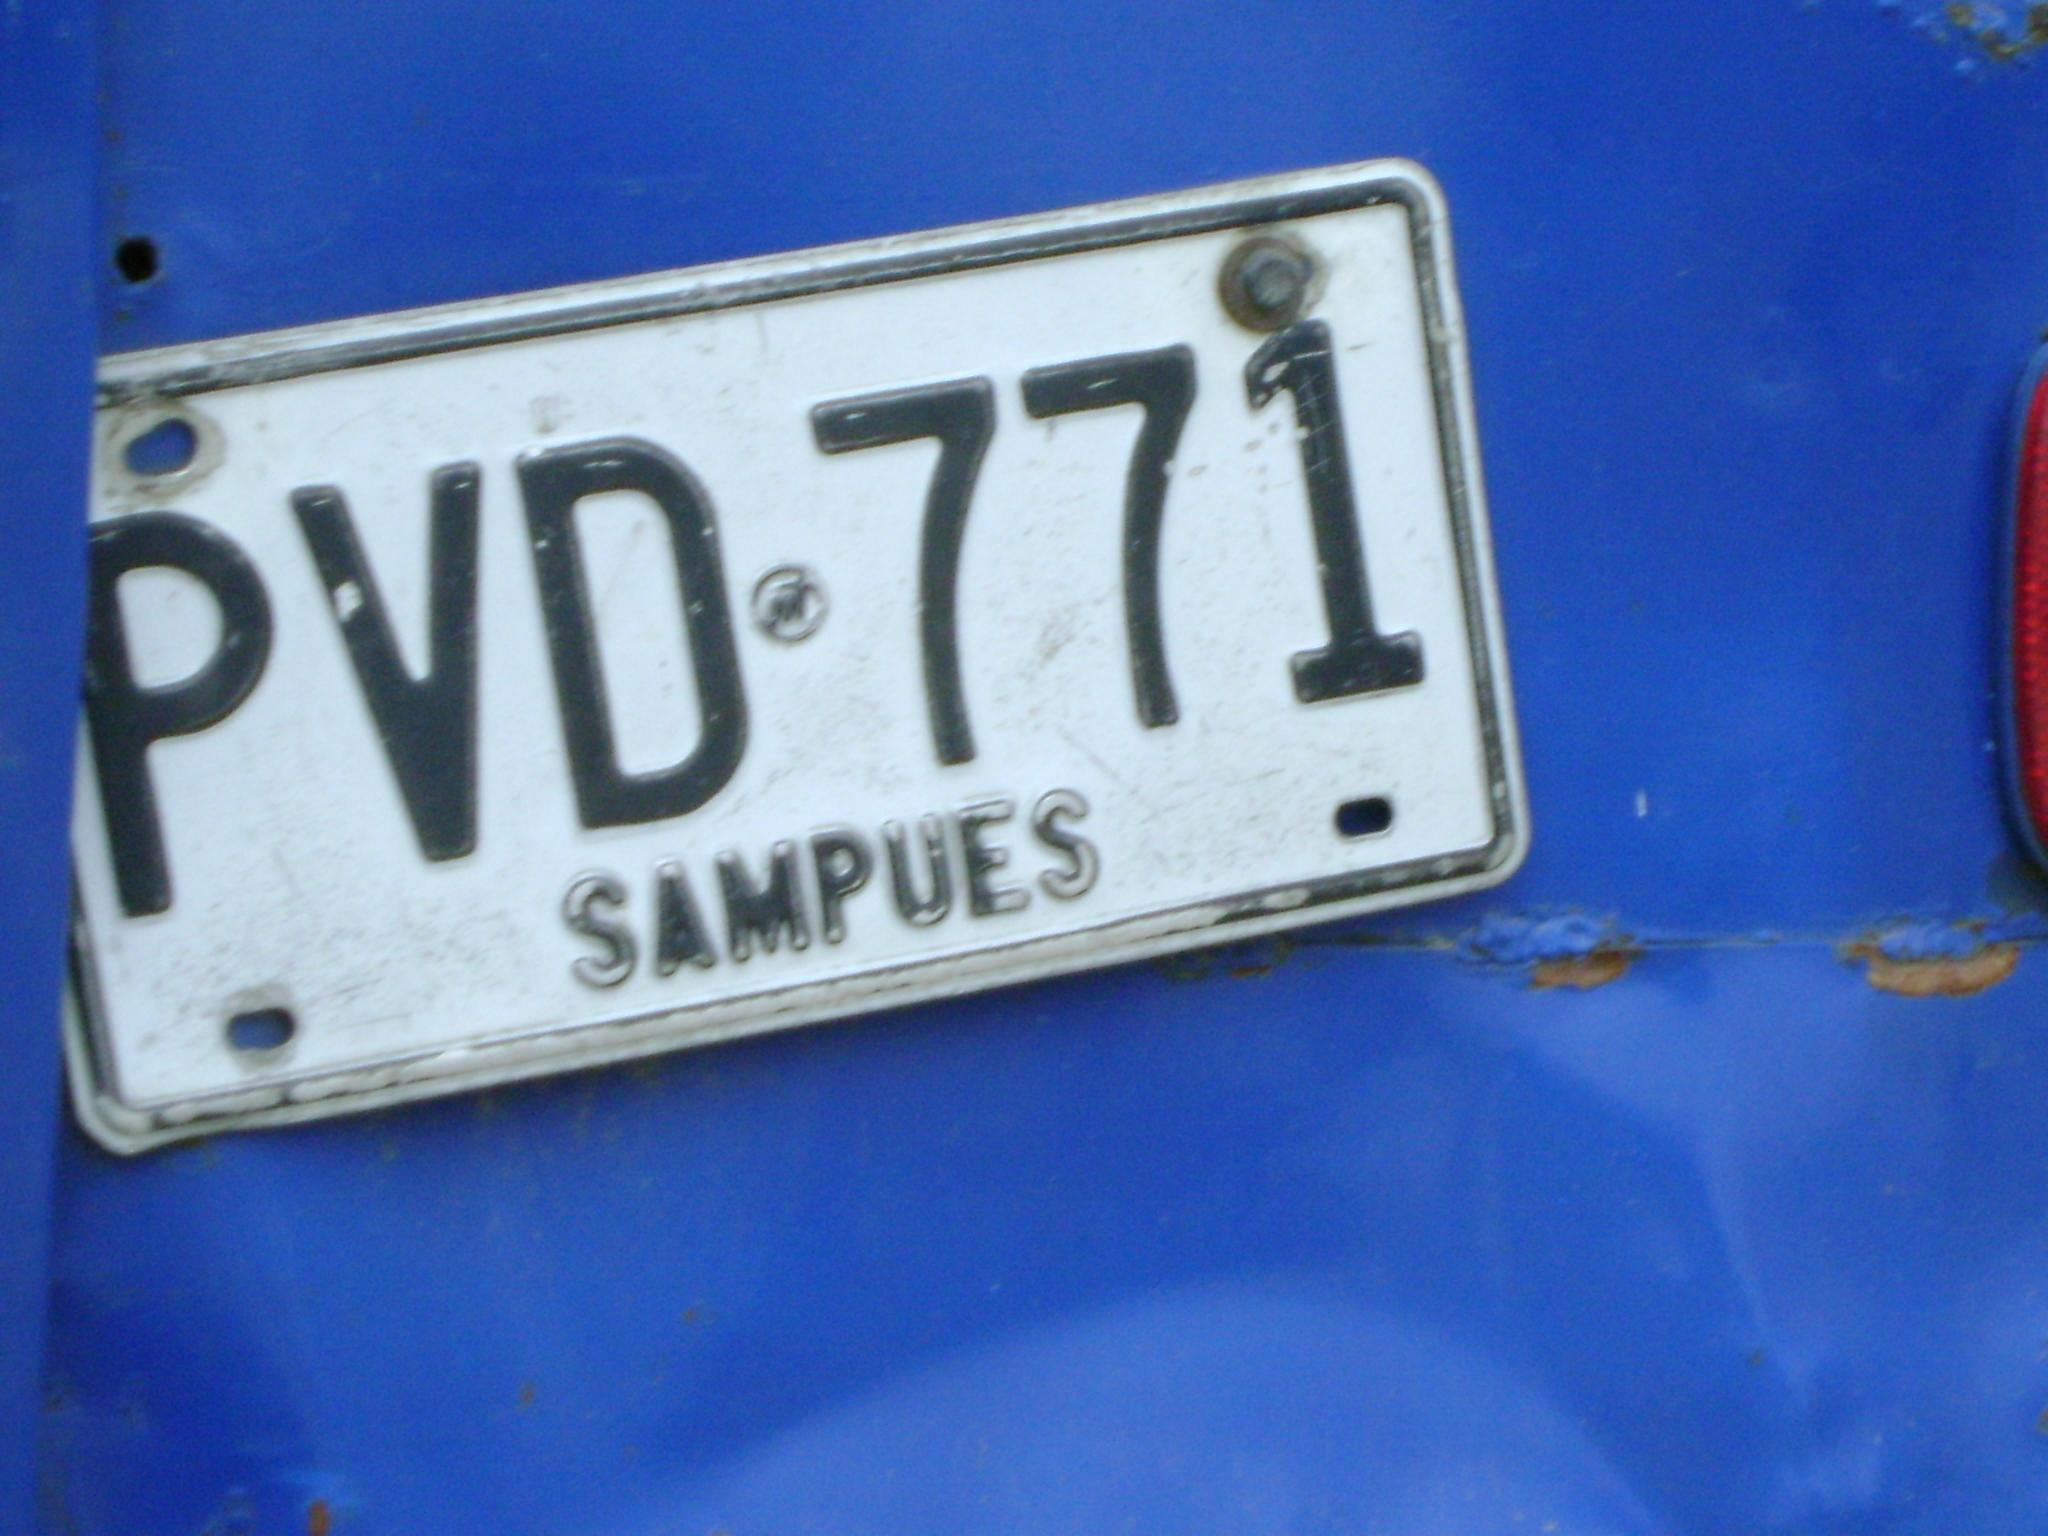placas: (24, 151, 1547, 1178)
